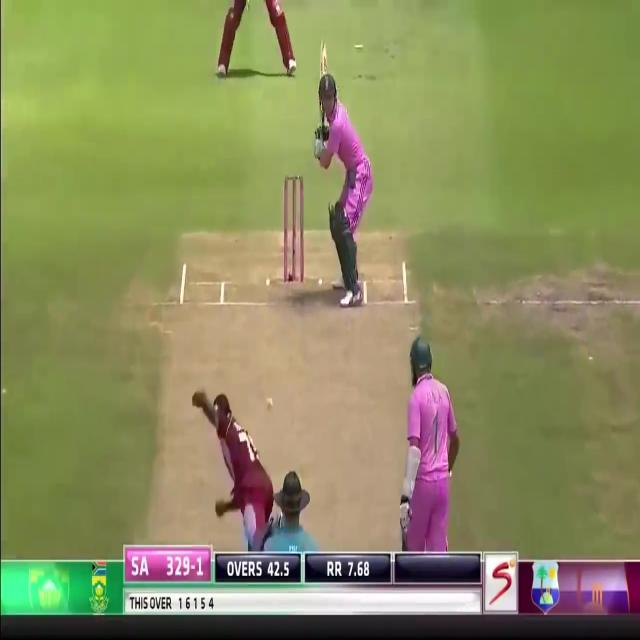Ball: (313, 76, 374, 303), (399, 348, 461, 552)
Fielder: (198, 377, 281, 553), (313, 73, 374, 304), (216, 1, 300, 83)
